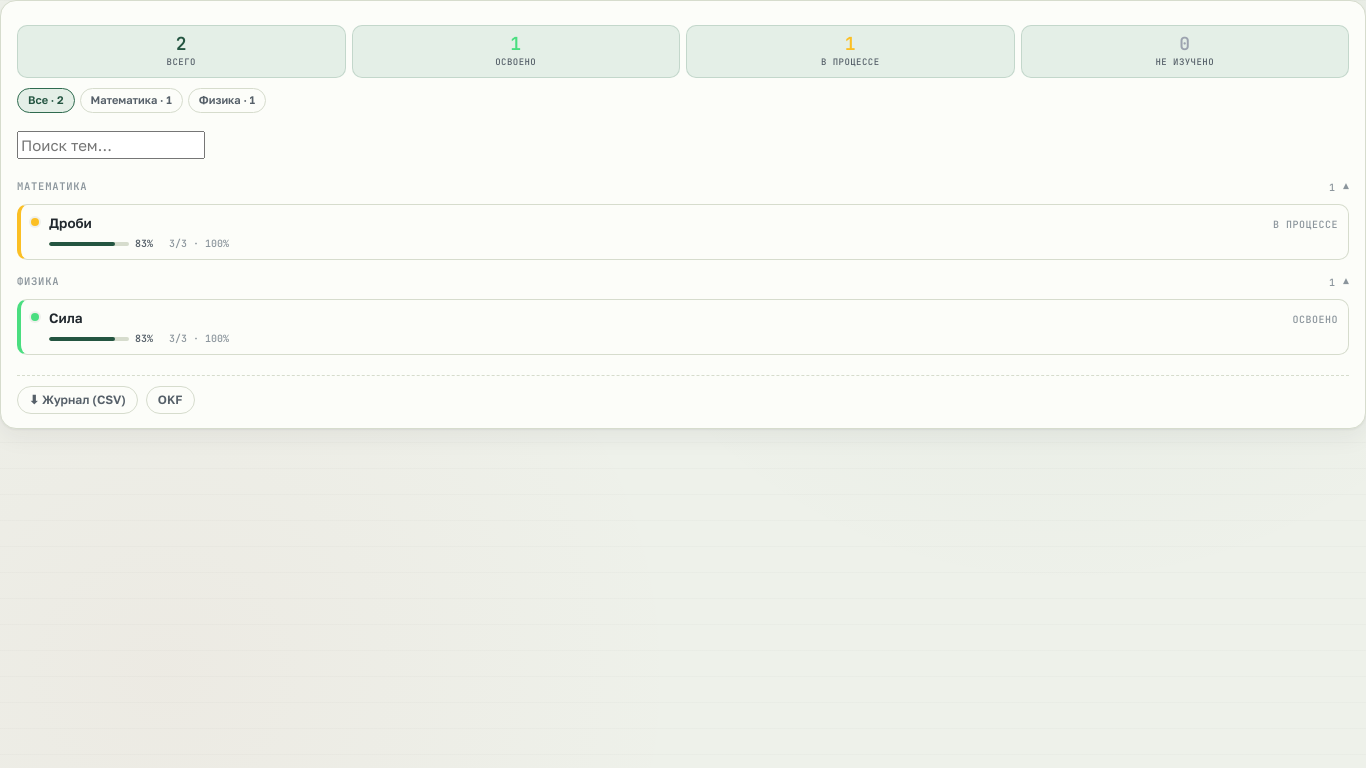
Test: <StudentKGPanel/> › чип-фильтр по предмету оставляет только его группы
Expected: the button "Сила" is shown, left=49, top=308, right=82, bottom=328
Click the button "Математика · 1" at [131, 101], box left=80, top=88, right=183, bottom=113
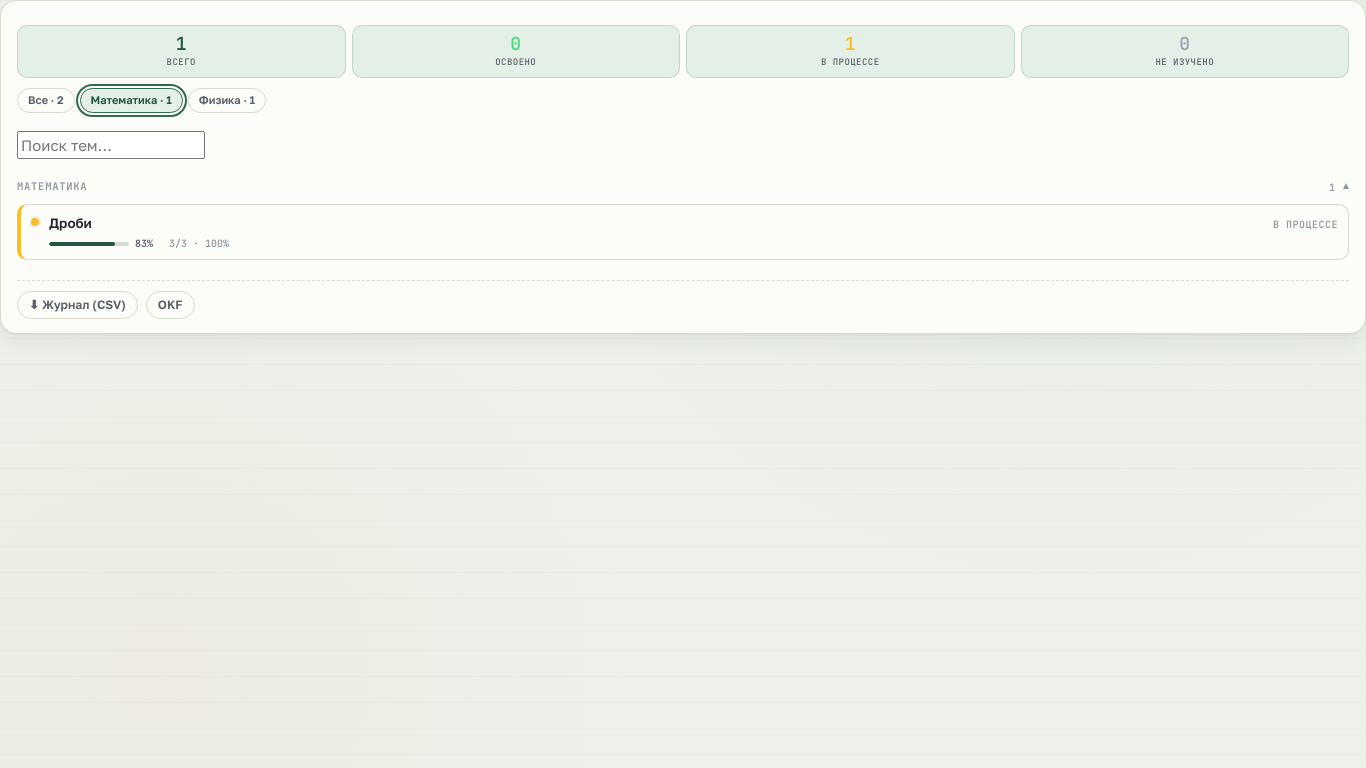
Now the number of elements with class "kg-subj-group" is 1, box left=17, top=175, right=1349, bottom=260
